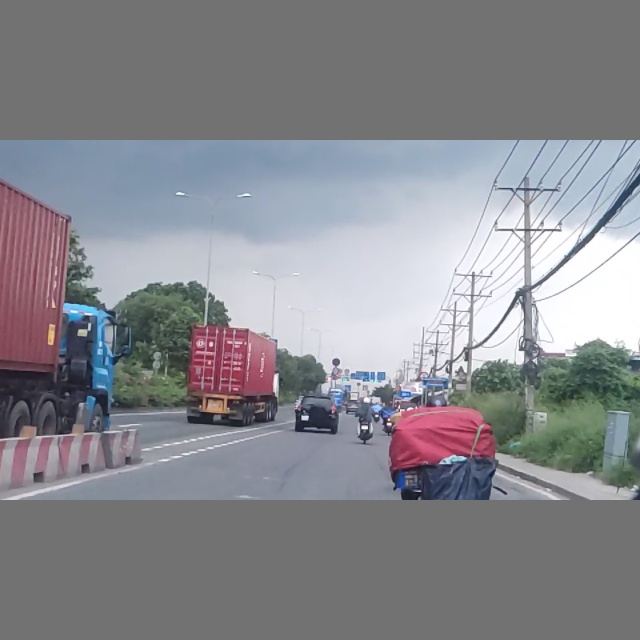P.130: (332, 357, 341, 367)
